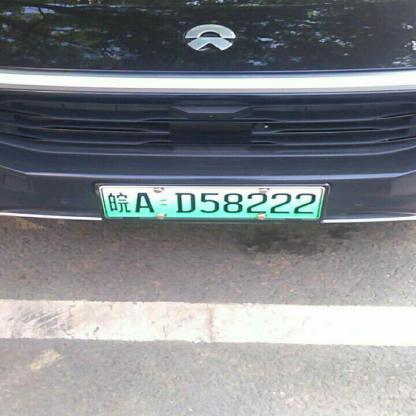lp: (100, 188, 322, 218)
